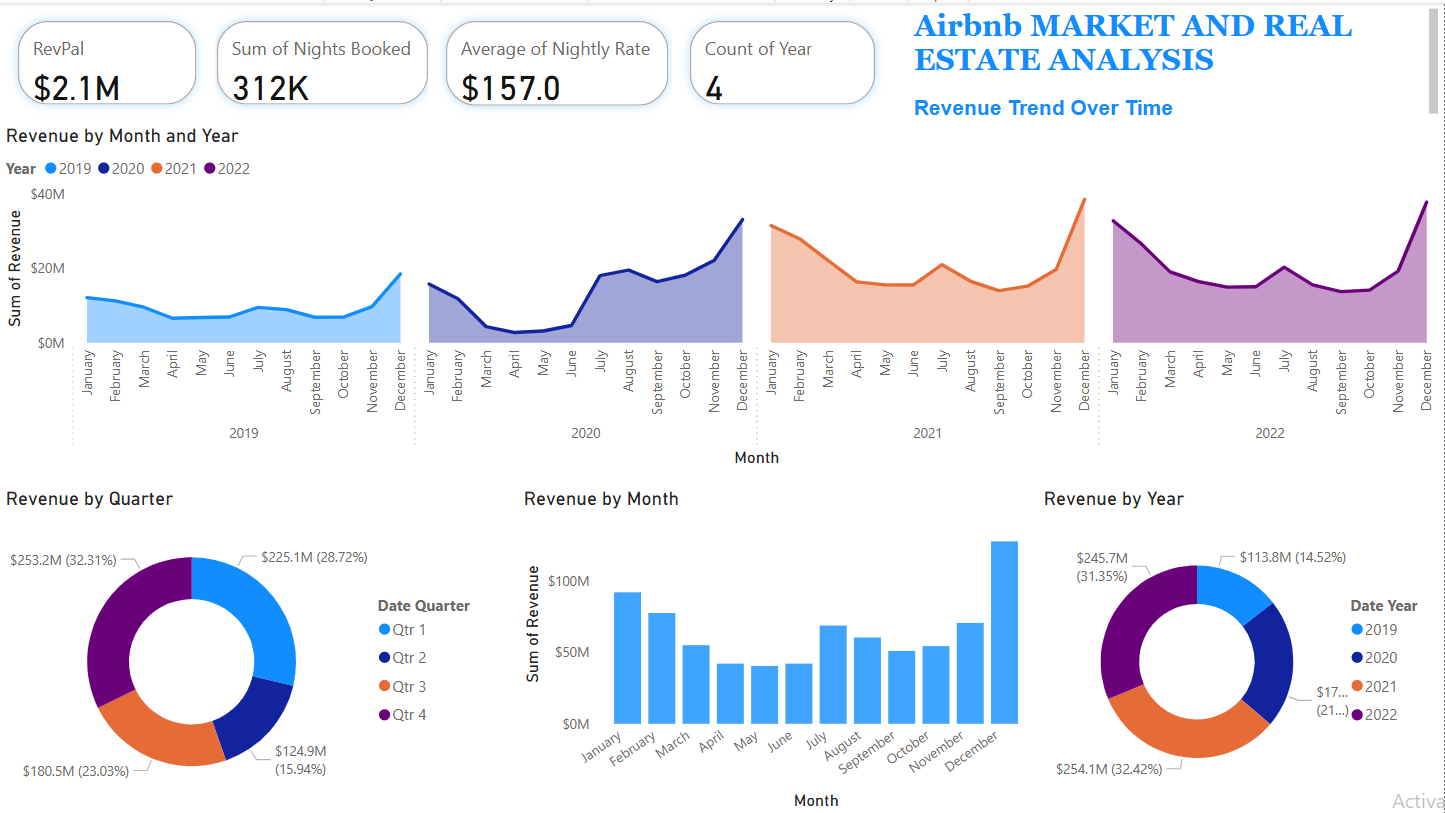

The page's visual inventory and layout, read from the dashboard file:
{"tool":"powerbi","page":{"name":"Dashboard 1","canvas":[1280,720],"ordinal":0},"visuals":[{"type":"columnChart","title":"Revenue by Month","fields":{"Category":["market_analysis_clean.Date.Variation.Date Hierarchy.Month"],"Y":["Sum(market_analysis_clean.Revenue)"]},"box":[446,429.2,473.5,290.8],"z":0},{"type":"donutChart","title":"Revenue by Year","fields":{"Category":["market_analysis_clean.Date.Variation.Date Hierarchy.Year"],"Y":["Sum(market_analysis_clean.Revenue)"]},"box":[920.1,428.9,359.9,290.8],"z":1000},{"type":"areaChart","title":" Revenue by Month and Year","fields":{"Category":["market_analysis_clean.Date.Variation.Date Hierarchy.Year","market_analysis_clean.Date.Variation.Date Hierarchy.Month"],"Y":["Sum(market_analysis_clean.Revenue)"],"Series":["market_analysis_clean.Date.Variation.Date Hierarchy.Year"]},"box":[0,107.1,1280.5,309.4],"z":2000},{"type":"donutChart","title":"Revenue by Quarter","fields":{"Y":["Sum(market_analysis_clean.Revenue)"],"Category":["market_analysis_clean.Date.Variation.Date Hierarchy.Quarter"]},"box":[0,429.2,438.8,291],"z":3000},{"type":"cardVisual","fields":{"Data":["Sum(market_analysis_clean.Nights Booked)"]},"box":[176,0,219.8,106.2],"z":4000},{"type":"textbox","box":[805.1,0,475.3,106.4],"z":5000},{"type":"cardVisual","fields":{"Data":["Avg(market_analysis_clean.Nightly Rate)"]},"box":[379.2,0,229.2,107.3],"z":6000},{"type":"cardVisual","fields":{"Data":["Count(market_analysis_clean.Date.Variation.Date Hierarchy.Year)"]},"box":[595.8,0,196.9,106.2],"z":7000},{"type":"cardVisual","fields":{"Data":["Amenities calculations (2).RevPal"]},"box":[0,0,190.6,106.2],"z":8000}]}

Visuals, with their boxes in screenshot pixels (x1, y1, x2, y2), scaled from the page's 1280x720 canvas onto the 1445x813 screenshot:
"Revenue by Month" columnChart: l=503, t=485, r=1038, b=812
"Revenue by Year" donutChart: l=1039, t=484, r=1444, b=812
" Revenue by Month and Year" areaChart: l=0, t=121, r=1444, b=470
"Revenue by Quarter" donutChart: l=0, t=485, r=495, b=812
cardVisual - Sum(market_analysis_clean.Nights Booked): l=199, t=0, r=447, b=120
textbox: l=909, t=0, r=1444, b=120
cardVisual - Avg(market_analysis_clean.Nightly Rate): l=428, t=0, r=687, b=121
cardVisual - Count(market_analysis_clean.Date.Variation.Date Hierarchy.Year): l=673, t=0, r=895, b=120
cardVisual - Amenities calculations (2).RevPal: l=0, t=0, r=215, b=120
